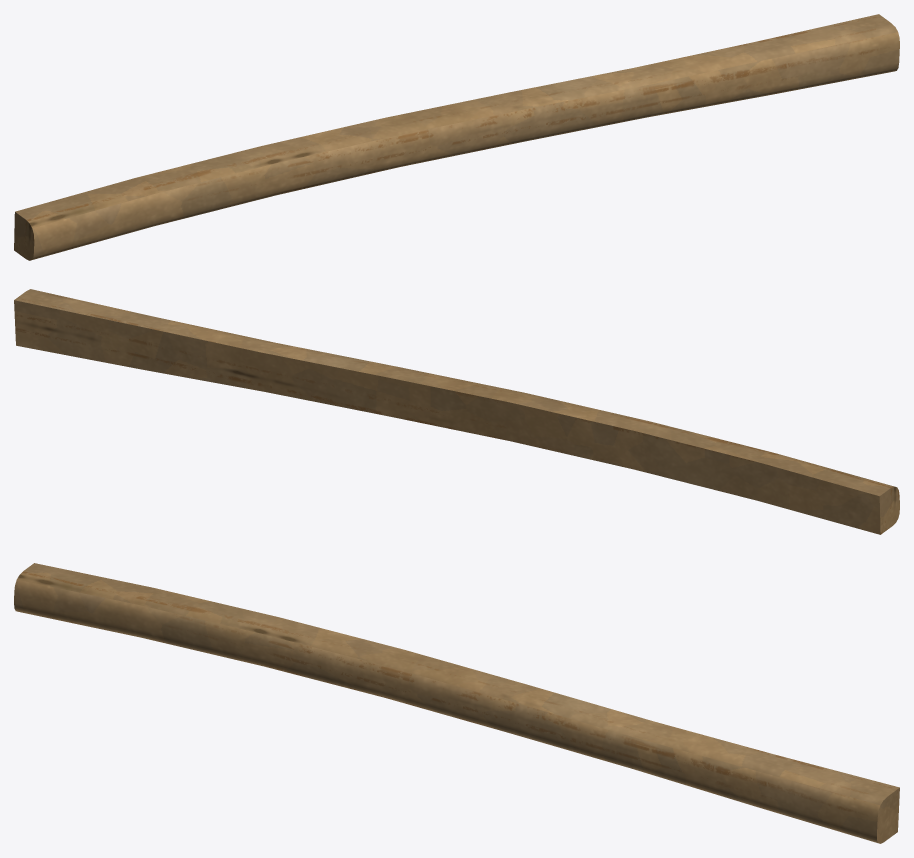
The model's file is 유교수님2.fbx.
3 views of the same model, one above another, from view 1: azimuth 30°, elevation 25°; view 2: azimuth 150°, elevation 25°; view 3: azimuth 330°, elevation 25° (orthographic).
Parts seen in each view (by area): view 1: 나무1; view 2: 나무1; view 3: 나무1.
Boxes of the visible parts, bbox=[...] form: 나무1: bbox=[14, 14, 899, 260]; 나무1: bbox=[14, 289, 899, 534]; 나무1: bbox=[14, 563, 899, 843].
Bounding box in the file's own units: 706 × 50.47 × 30.59.
